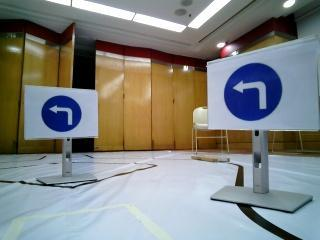left: (211, 62, 292, 124), (23, 88, 100, 134)
